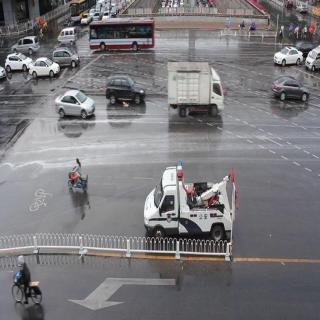BigCar: (168, 56, 228, 120), (90, 19, 156, 53), (71, 0, 82, 25)
Car: (144, 162, 232, 236), (104, 74, 146, 114), (273, 73, 310, 111), (54, 90, 96, 122), (274, 46, 304, 69), (53, 47, 80, 72), (32, 59, 61, 79), (5, 54, 31, 74), (12, 36, 39, 55), (58, 26, 78, 47), (305, 46, 319, 74), (111, 6, 118, 16)
